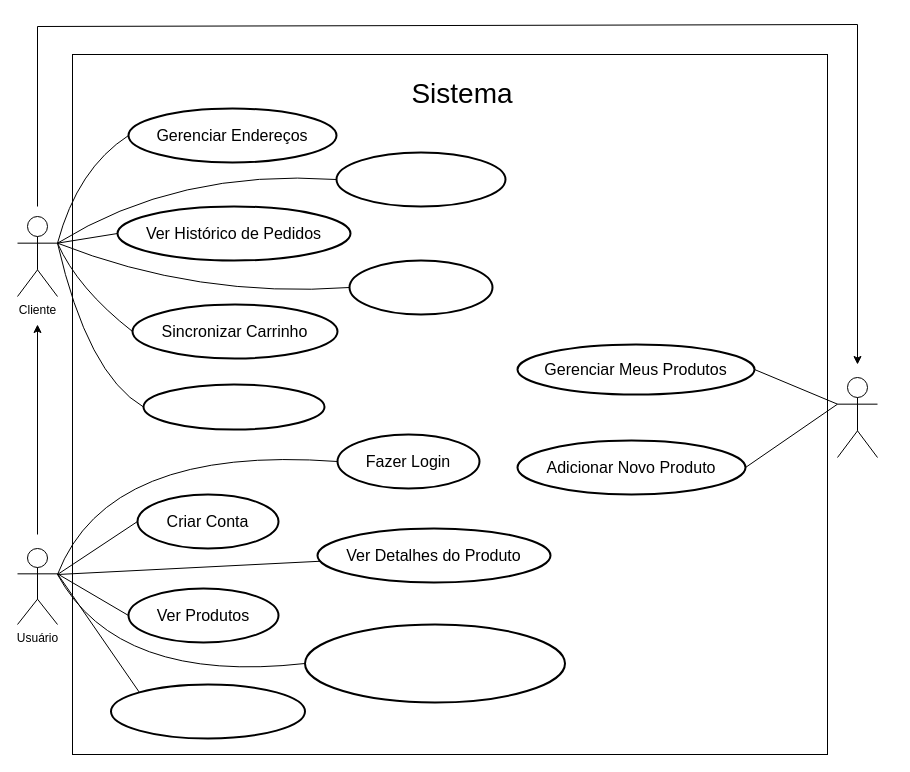
Some shapes in this 910 by 772 pixel diagram are drawn without their labels. Here are the shapes that lost their labels. From the top down, the centre of each, then its label:
point 420,179: Avaliar Produto
point 420,287: Salvar Itens
point 233,406: Finalizar Compra
point 857,417: Fornecedor
point 435,663: Adicionar ao Carrinho
point 208,711: Pesquisar Produtos
